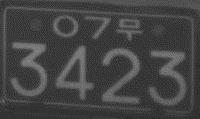0: (52, 13, 79, 38)
2: (101, 46, 143, 105)
3: (148, 48, 188, 105), (10, 40, 47, 97)
4: (54, 44, 95, 100)
7: (83, 14, 112, 40)
무: (115, 17, 143, 41)
